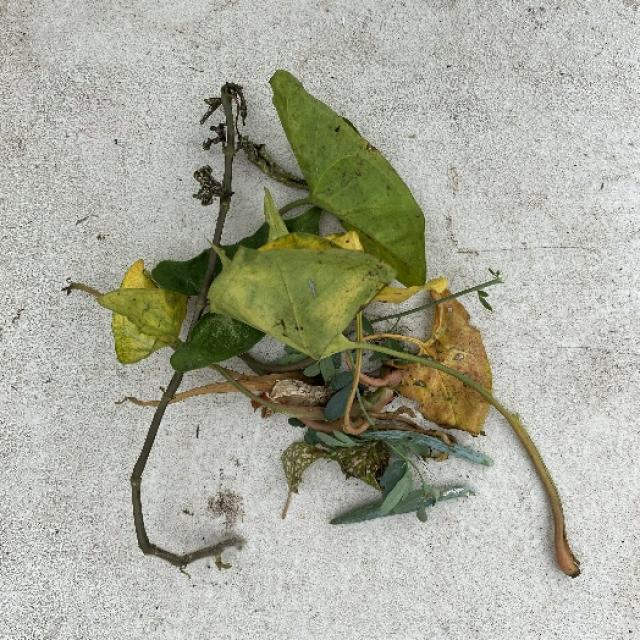organik: (114, 81, 564, 600)
